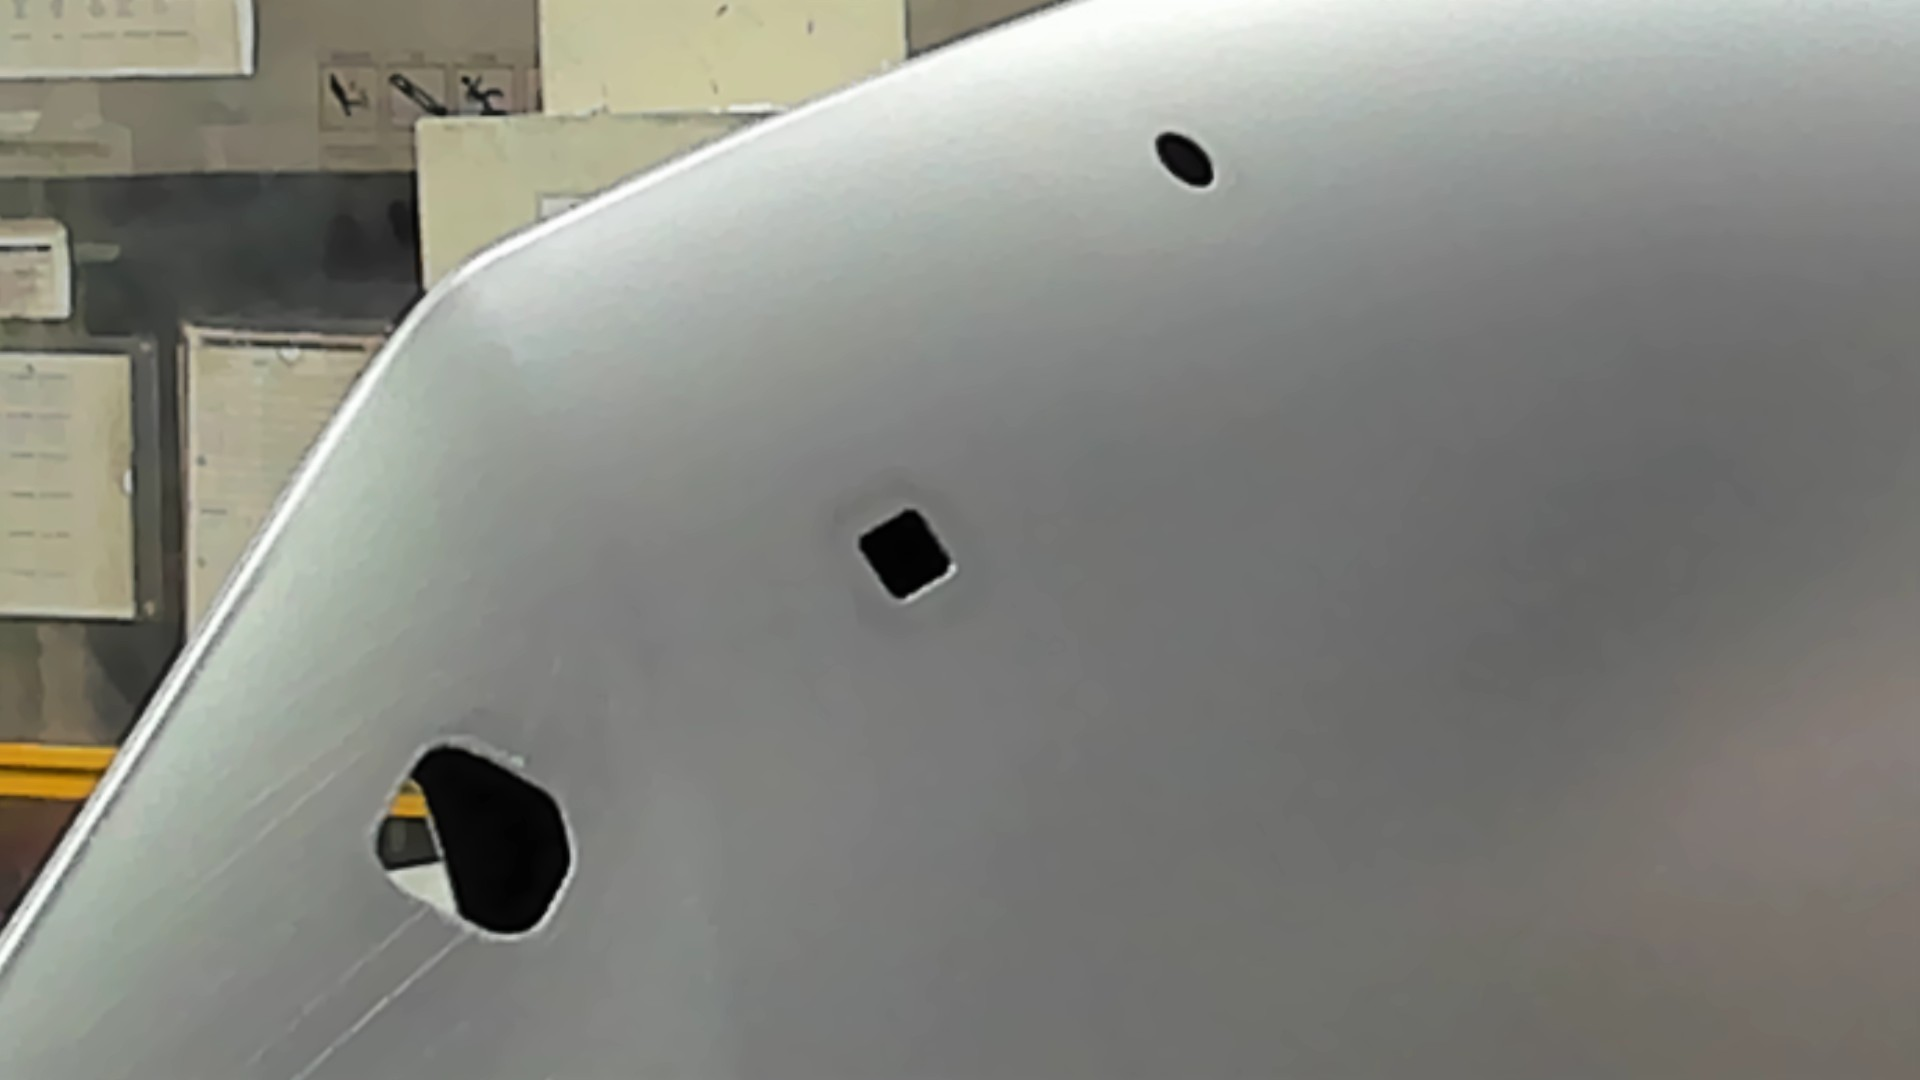chico: (1149, 127, 1216, 190)
grande: (367, 732, 582, 945)
mediano: (855, 502, 959, 609)
